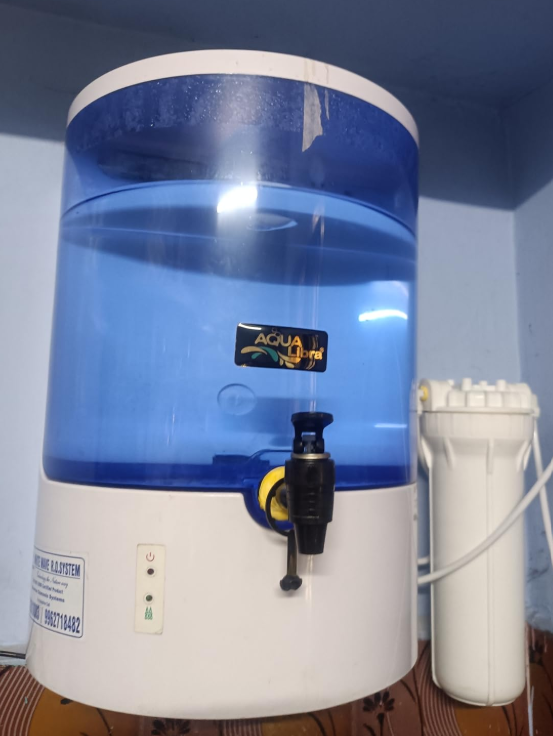water purifier: (21, 51, 431, 719)
